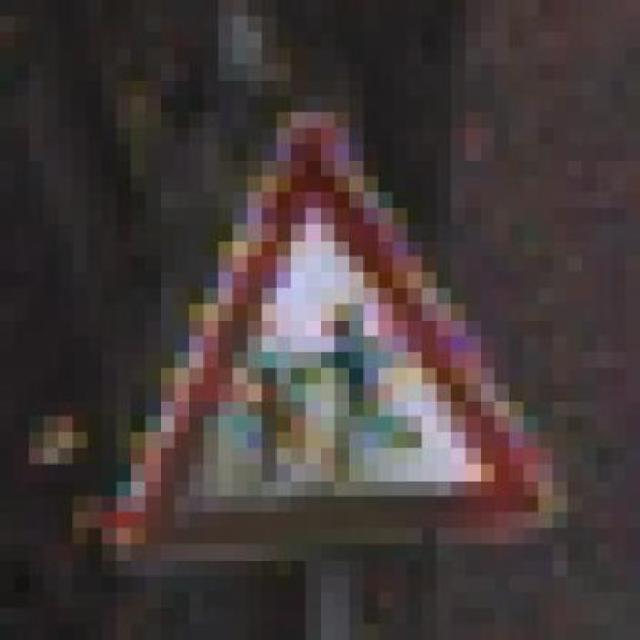Beware of children: (87, 96, 567, 576)
